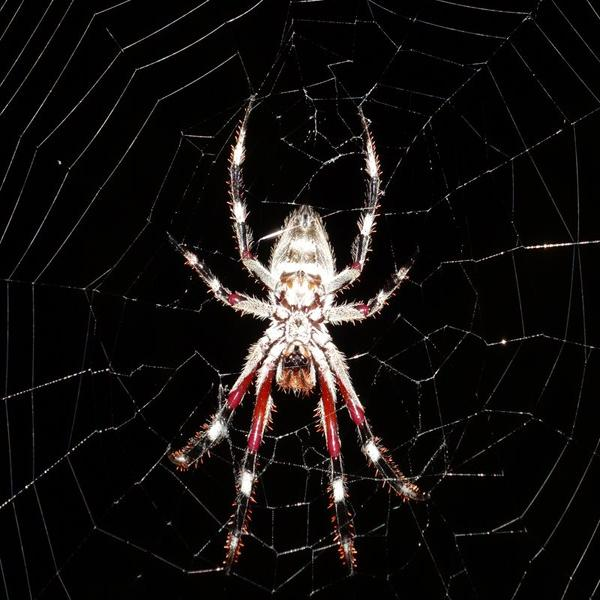Garden Orb Weaver Spider: (173, 137, 418, 556)
